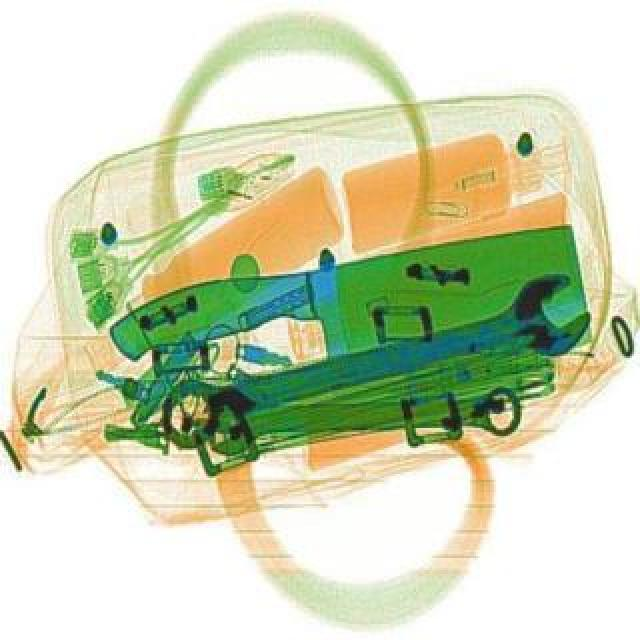knife: (100, 220, 596, 416)
scissors: (150, 264, 602, 456), (210, 382, 522, 450)
